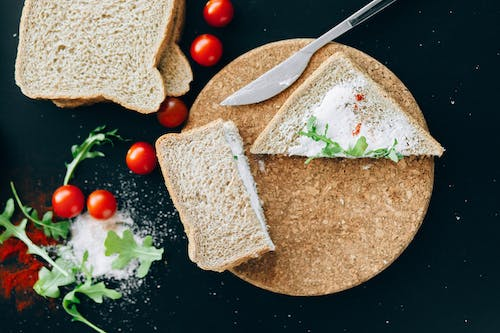knife: (218, 0, 399, 108)
